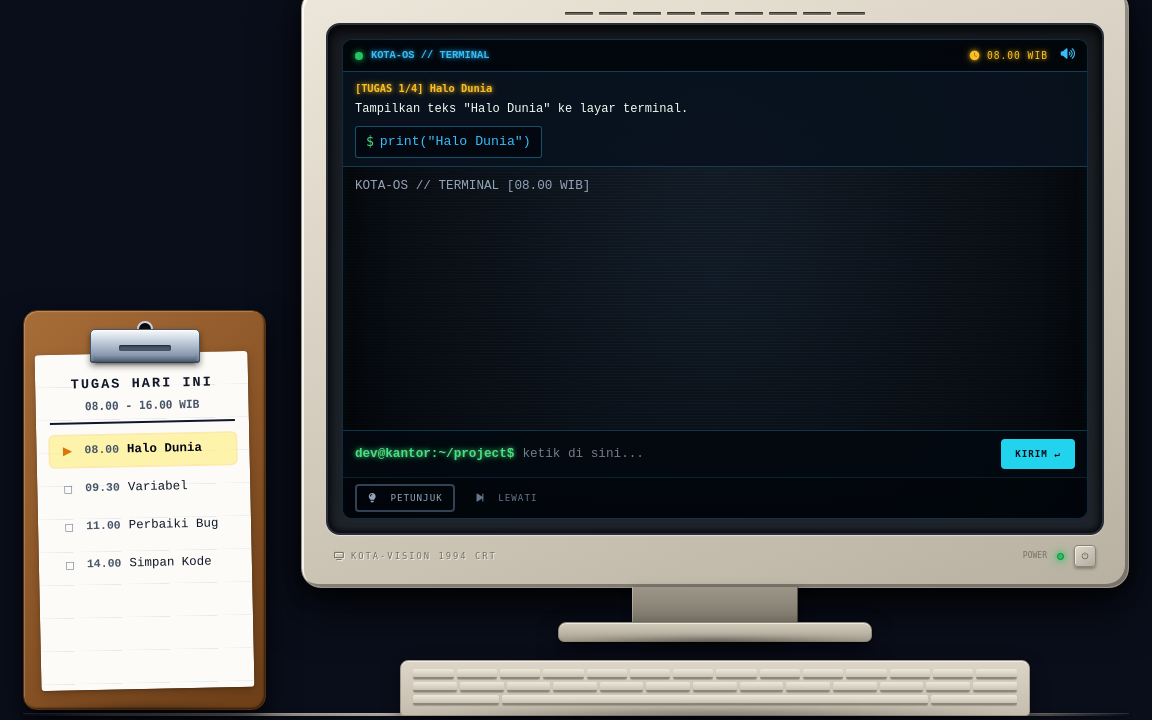
Test case: RetroMonitorSimulation › executes task 1, updates clipboard item to completed (✓), and shows clean output
The image size is (1152, 720).
(page scrolled)
Expected: the icon with class "clipboard-status-icon" reads "▶", left=63, top=442, right=72, bottom=460
Expected: the icon with class "clipboard-status-icon" in the row of "09.30" reads "☐", left=64, top=480, right=73, bottom=499
Type "print(\"Halo Dunia\")" into the field with placeholder "ketik di sini...".
click(758, 454); type("print(\"Halo Dunia\")")  # box left=522, top=444, right=993, bottom=464
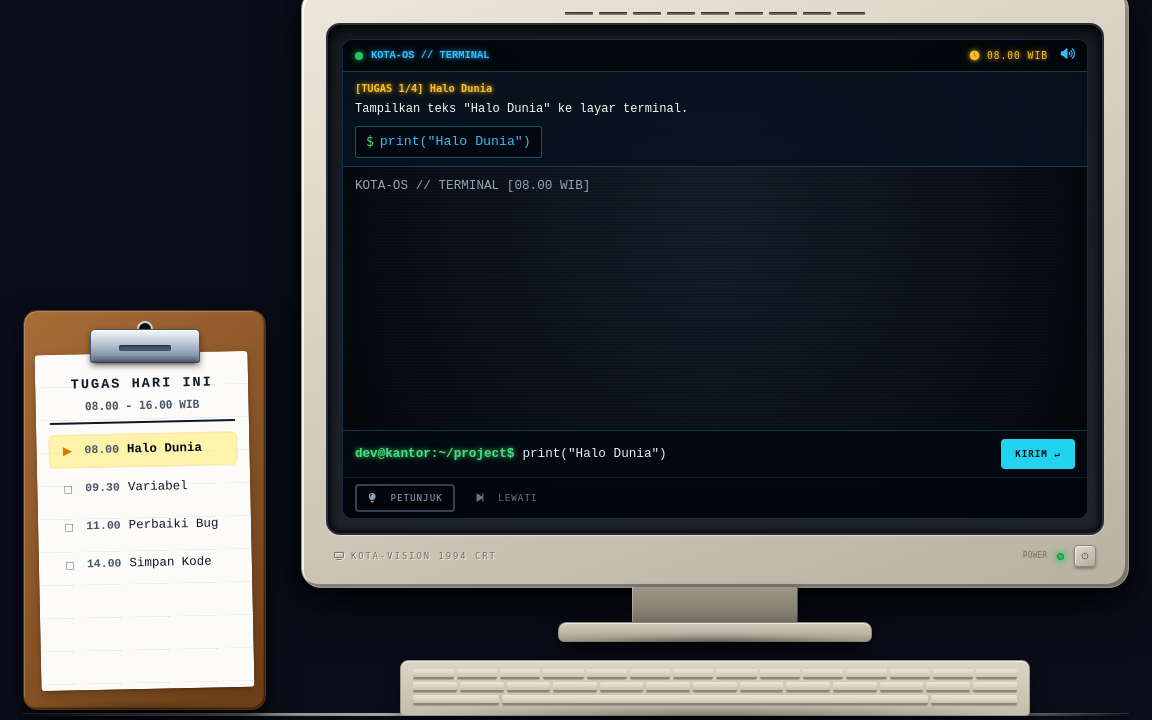
Submit the form with placeholder "ketik di sini...", box left=343, top=430, right=1087, bottom=477
Wait 650 ms
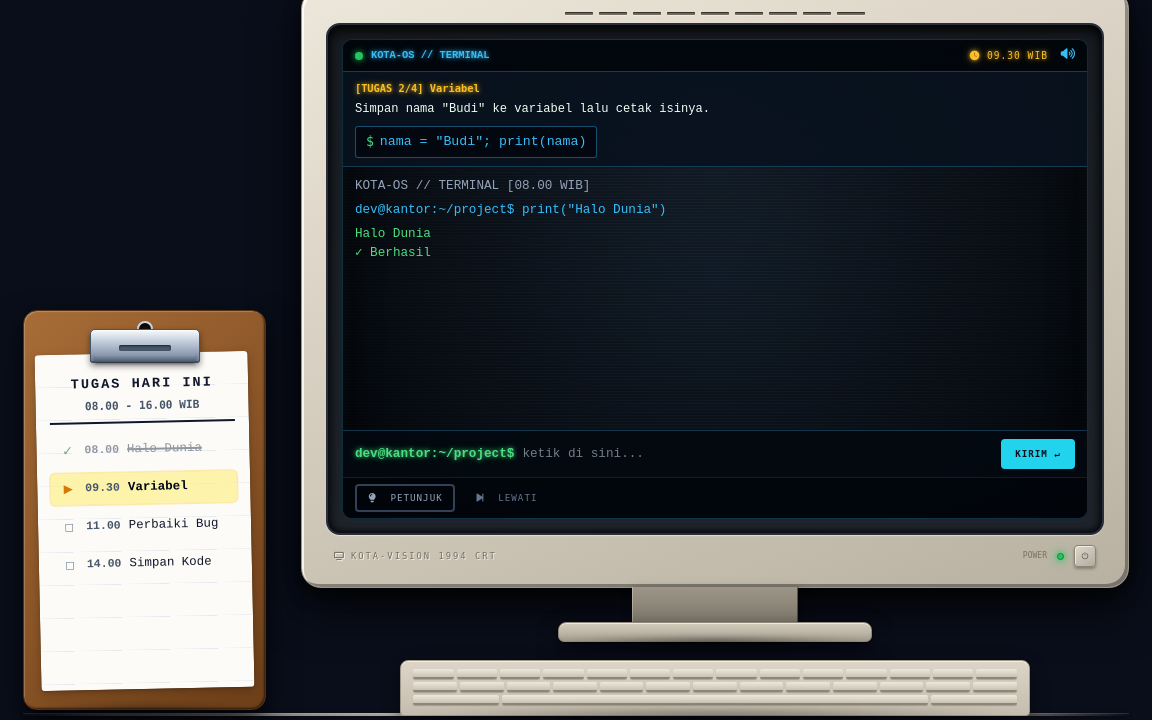
Expected: the text "Halo Dunia ✓ Berhasil" is shown, left=355, top=226, right=431, bottom=260
Expected: the icon with class "clipboard-status-icon" reads "✓", left=63, top=442, right=72, bottom=460
